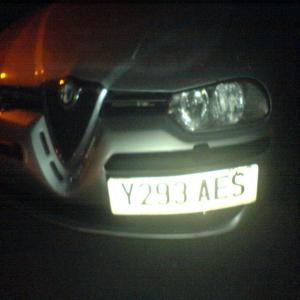Vehicle-registration-plate: (109, 165, 260, 215)
